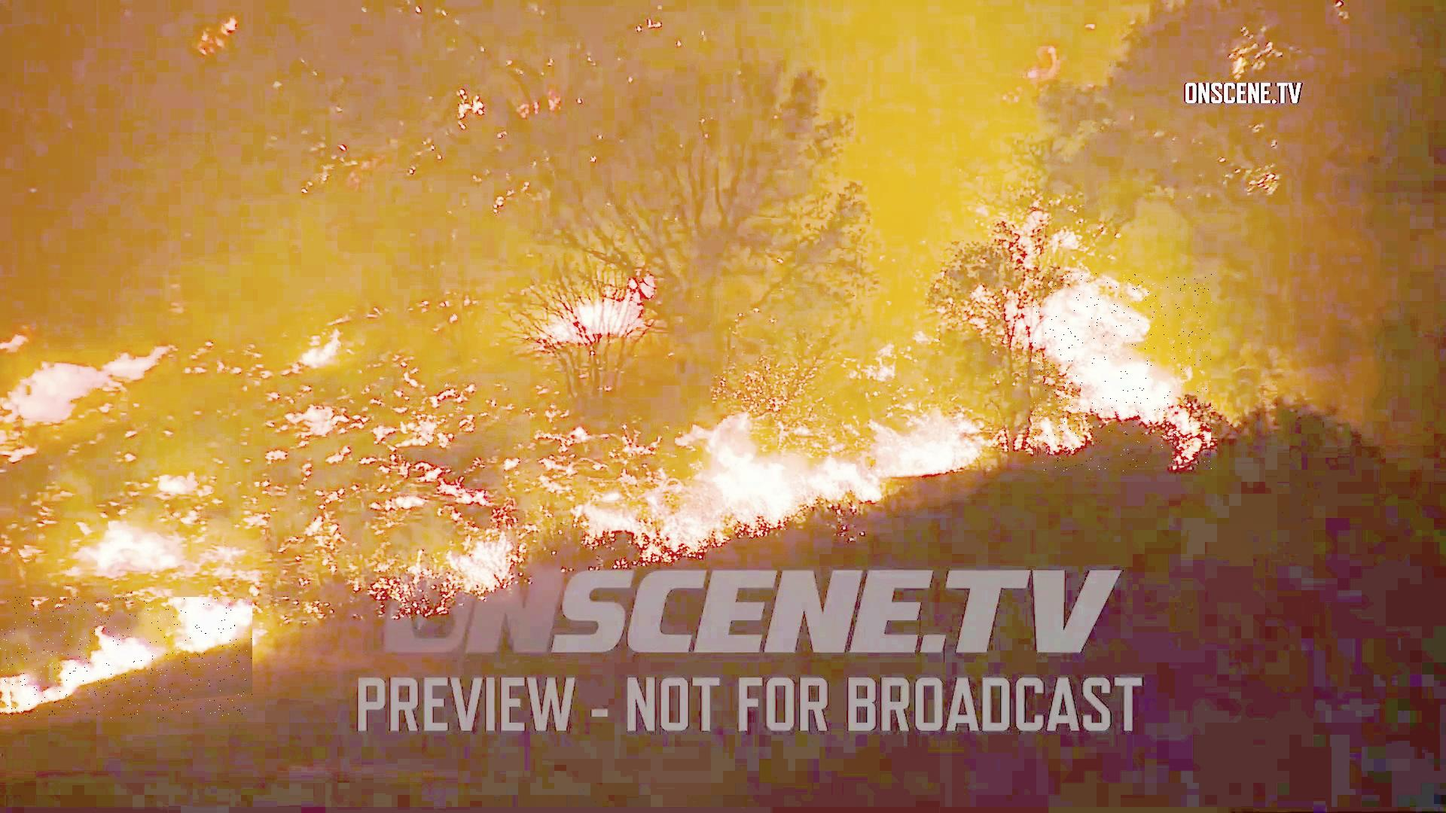fire: (1034, 273, 1213, 471), (0, 597, 252, 718)
